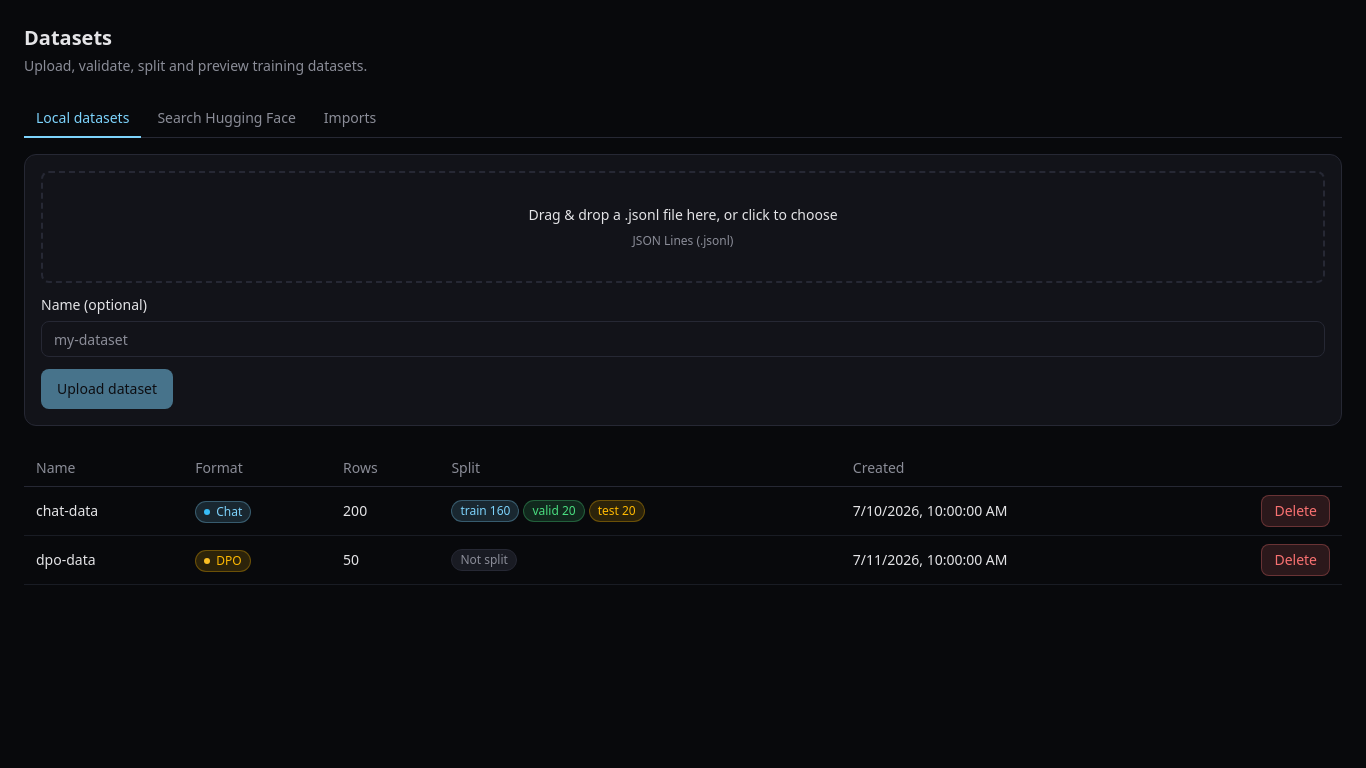
Scenario: DatasetsPage › deletes a dataset after confirming, and shows a success toast
Expected: the text "chat-data" is shown, [36,501,98,521]
What coordinates should you click on to do the following:
click the button "Delete" in the row of "200"
I would click on:
 (1296, 511)
Its box is [1261,495,1330,527].
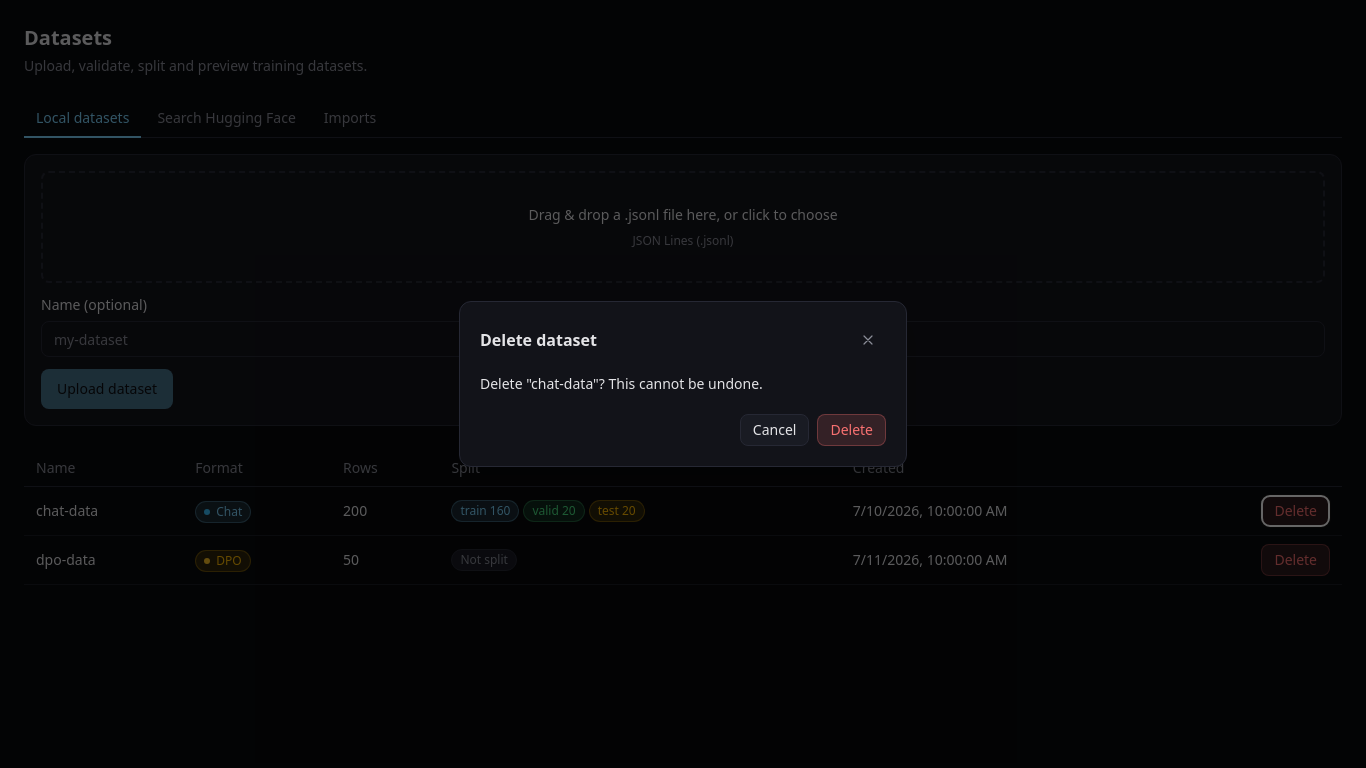
Expected: the dialog is shown, [459,301,907,467]
What coordinates should you click on to do the following:
click the button "Delete"
I would click on:
 (852, 430)
Its box is [817,414,886,446].
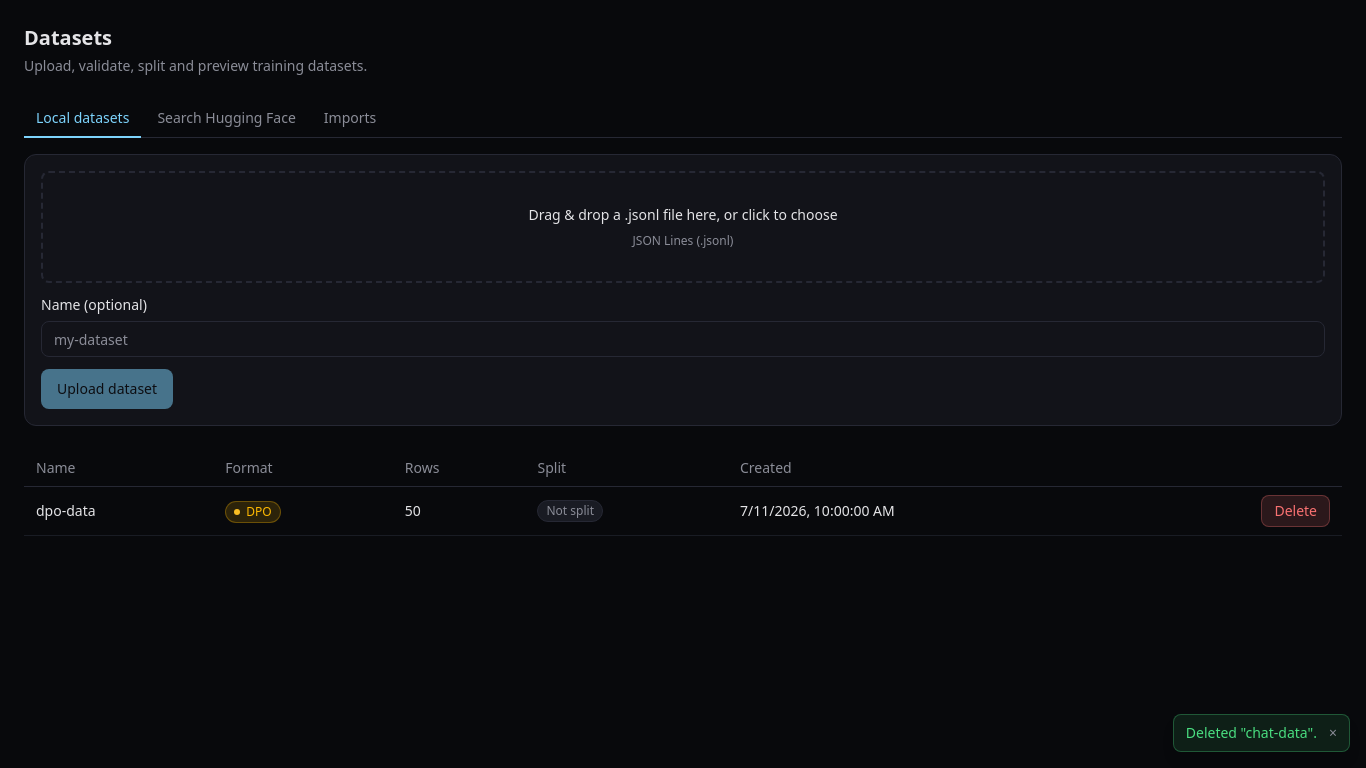
Expected: the text "Deleted \"chat-data\"." is shown, [1186,723,1317,743]
